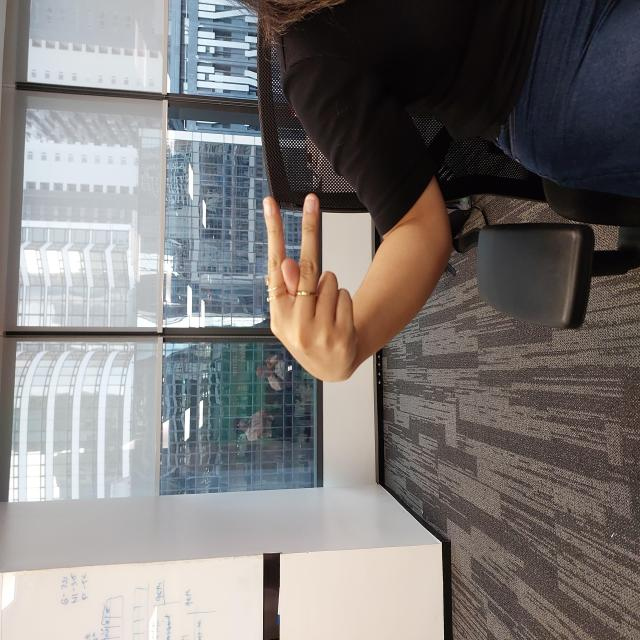K: (257, 260, 451, 358)
